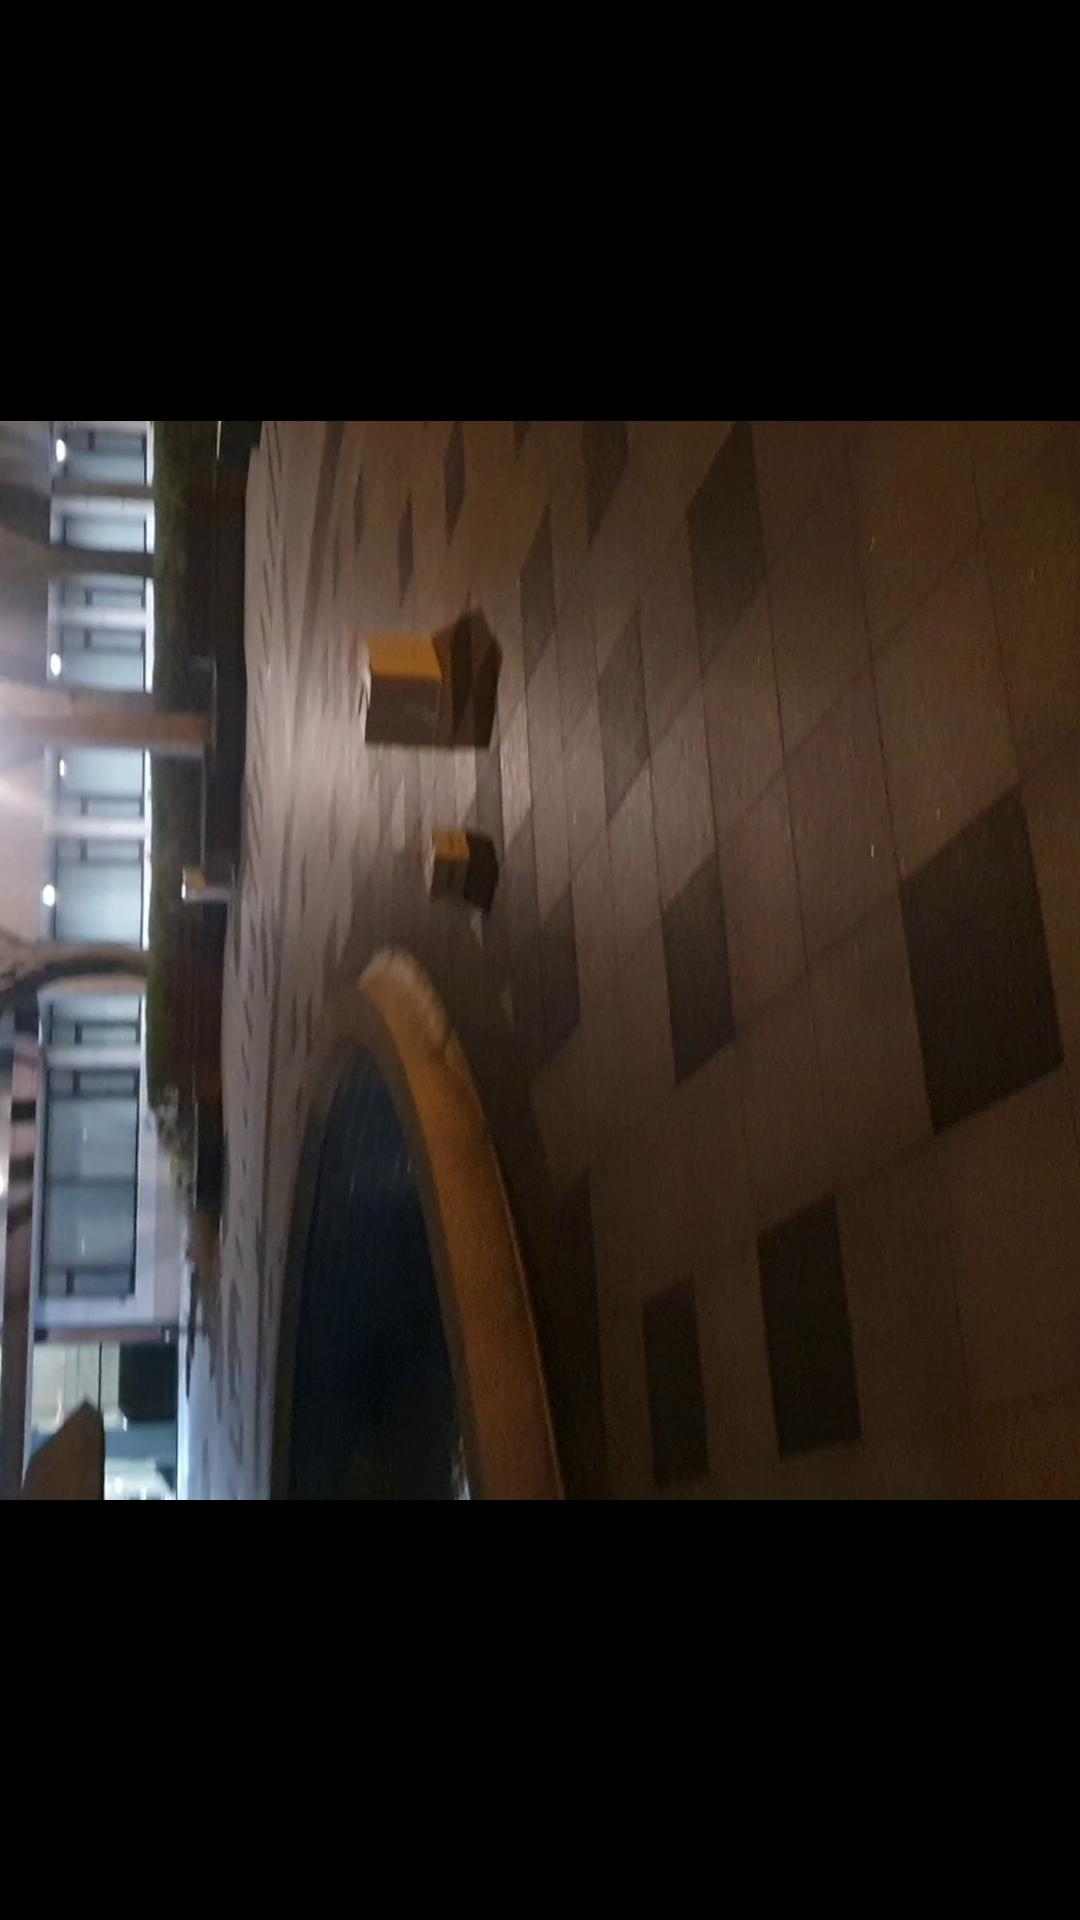Box: (353, 638, 468, 764), (415, 828, 485, 894)
